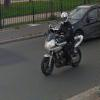Motorcycle: (33, 14, 84, 86)
